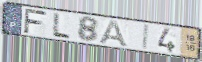4: (157, 26, 177, 54)
8: (77, 15, 100, 44)
A: (97, 18, 130, 48)
F: (23, 8, 49, 35)
I: (141, 23, 151, 51)
L: (51, 12, 72, 41)
